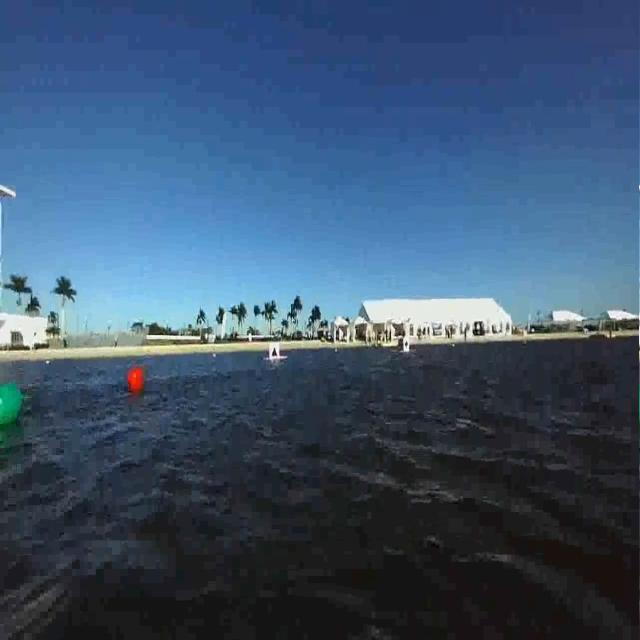green-buoy: (0, 384, 25, 428)
red-buoy: (128, 368, 145, 395)
